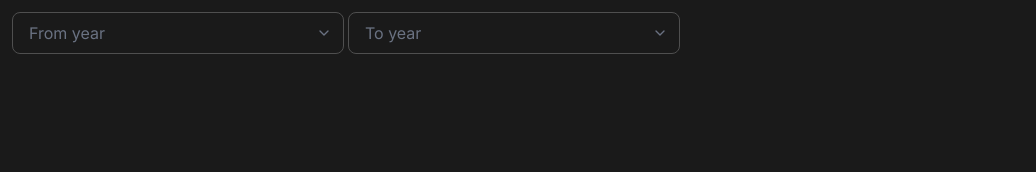
Test: YearRangePicker Component › From Year Selection › should respect minYear for from picker
Step 1. Focus the field with placeholder "From year" → (178, 33), box [12,12,344,54]
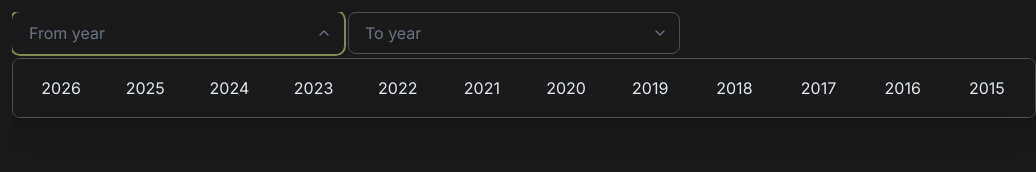
Check: the button "2015" is shown, box [947,67,1027,109]
